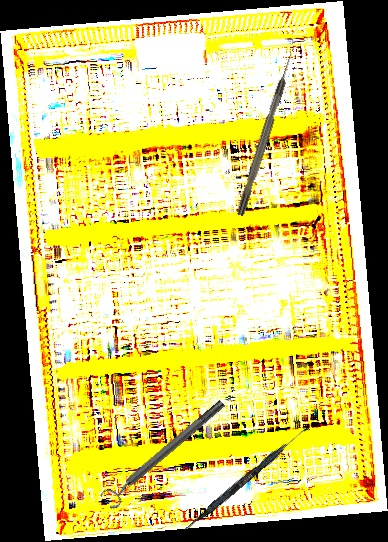Fixation Ring: (98, 394, 231, 512)
Hook Surgical: (235, 52, 296, 217)
Spatula Surgical: (181, 422, 310, 537)
